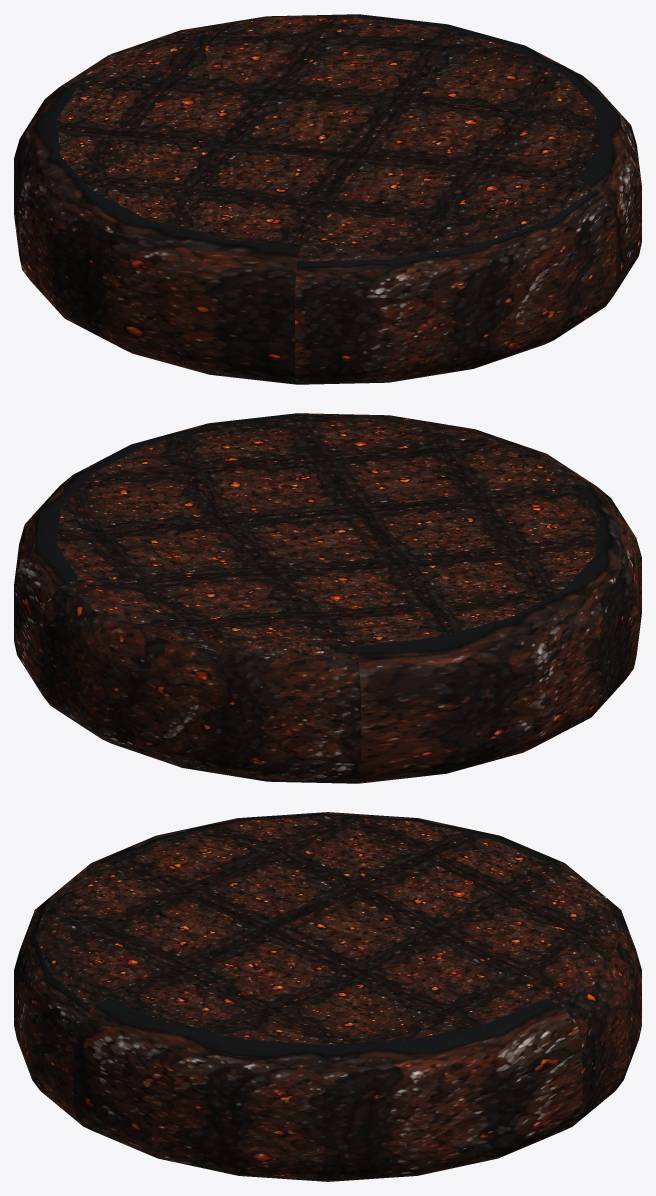
File: Carne_Quemada.fbx
3 views of the same model, one above another, from view 1: azimuth 30°, elevation 25°; view 2: azimuth 150°, elevation 25°; view 3: azimuth 270°, elevation 25° (orthographic).
Parts seen in each view (by area): view 1: Carne_Quemada; view 2: Carne_Quemada; view 3: Carne_Quemada.
Boxes of the visible parts, x1,y1,x2,y2 form: Carne_Quemada: [14, 14, 641, 384]; Carne_Quemada: [14, 413, 641, 783]; Carne_Quemada: [14, 812, 641, 1181].
Size of the model in its own units: 1.59 by 0.3693 by 1.59.
Materials: 1 (1 with a texture image).
